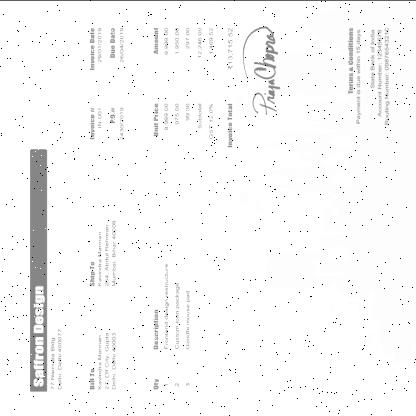Paragraph: (347, 25, 391, 126), (86, 217, 119, 289), (87, 330, 117, 393), (32, 284, 45, 388), (225, 24, 235, 150), (50, 327, 62, 389), (88, 26, 102, 70), (109, 104, 125, 140), (108, 26, 124, 62), (88, 104, 102, 140)
Table: (150, 23, 216, 394)
